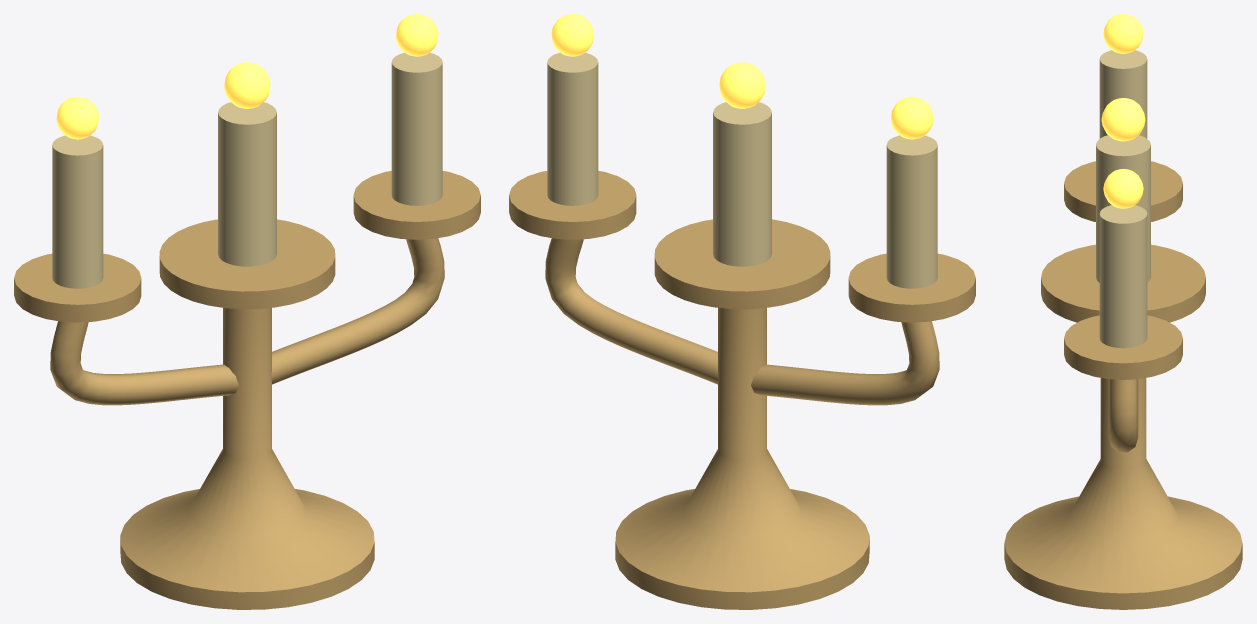
Rendered from adventurers-tavern-and-guild-hall-candelabra-4711116c__24735.glb.
The picture shows the model from 3 angles, left to right: view 1: azimuth 30°, elevation 25°; view 2: azimuth 150°, elevation 25°; view 3: azimuth 270°, elevation 25°; orthographic projection. The views are drawn at different scales.
Visible parts, largest first — view 1: candelabra; view 2: candelabra; view 3: candelabra.
Boxes of the visible parts, x1=… form: candelabra: x1=14, y1=14, x2=480, y2=609; candelabra: x1=509, y1=14, x2=975, y2=609; candelabra: x1=1004, y1=14, x2=1242, y2=609.
Size of the model in its own units: 0.53 by 0.562 by 0.26.
